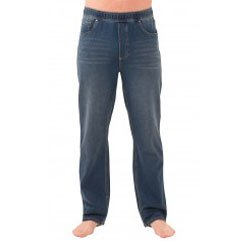jeans: (79, 8, 163, 219)
